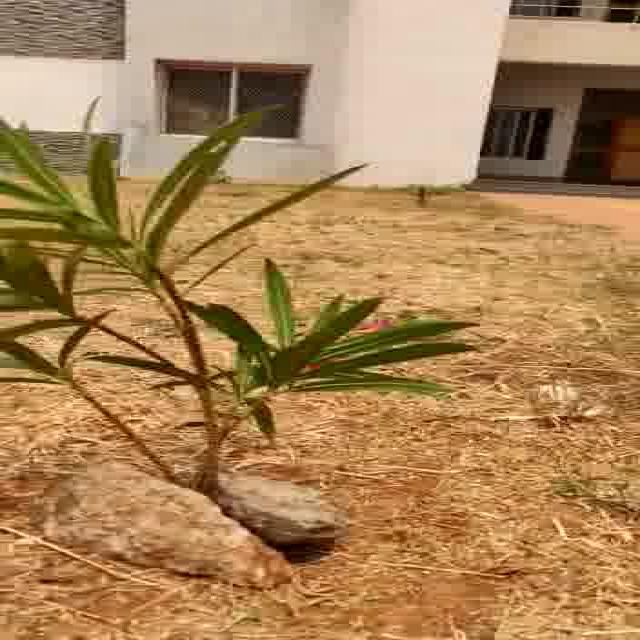Oleander: (9, 119, 481, 439)
